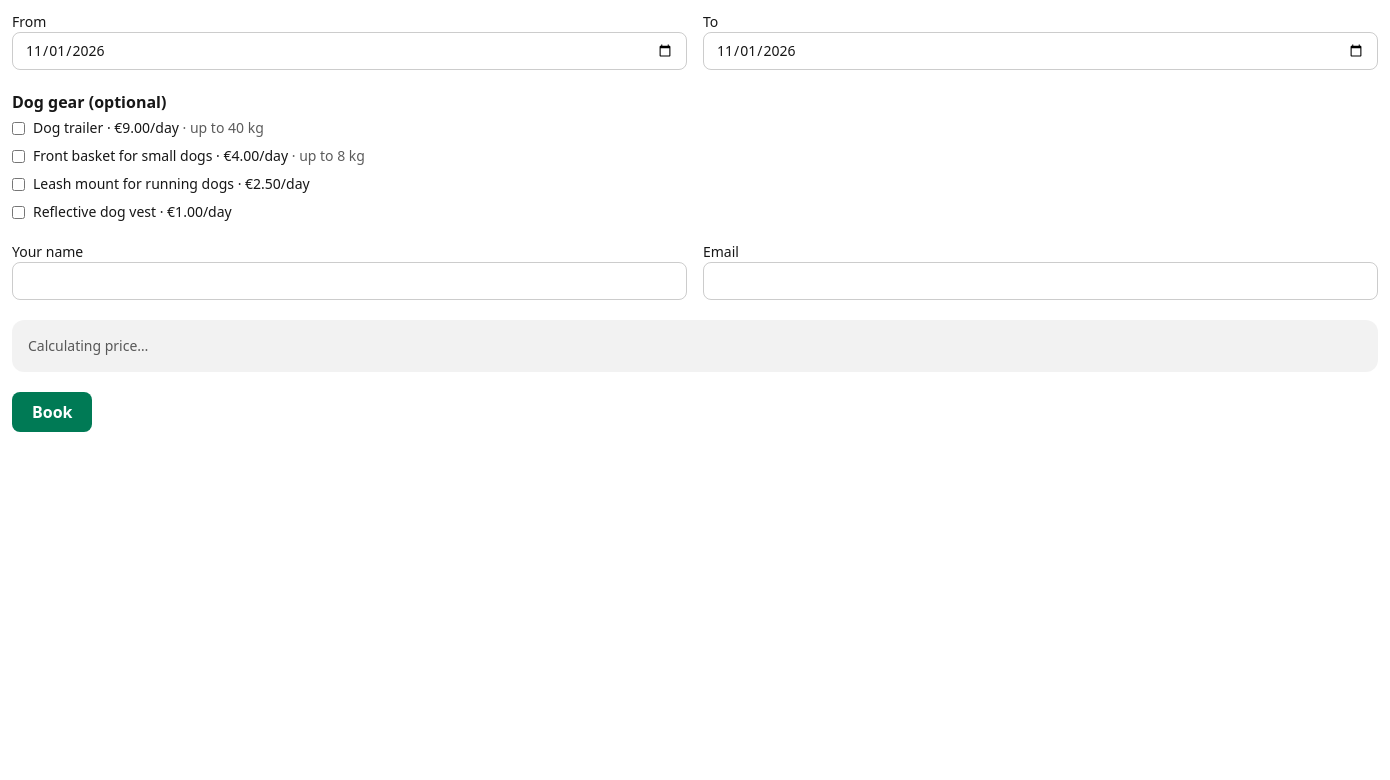
Scenario: R6.1: dog weight appears only once gear is chosen; price comes from /api/quote
Check: the field labelled "Dog weight (kg)" is not shown
Click the checkbox labelled "Dog trailer · €9.00/day · up to 40 kg". click: click(18, 128)
box: x1=12 y1=122 x2=25 y2=135
Wait 300 ms
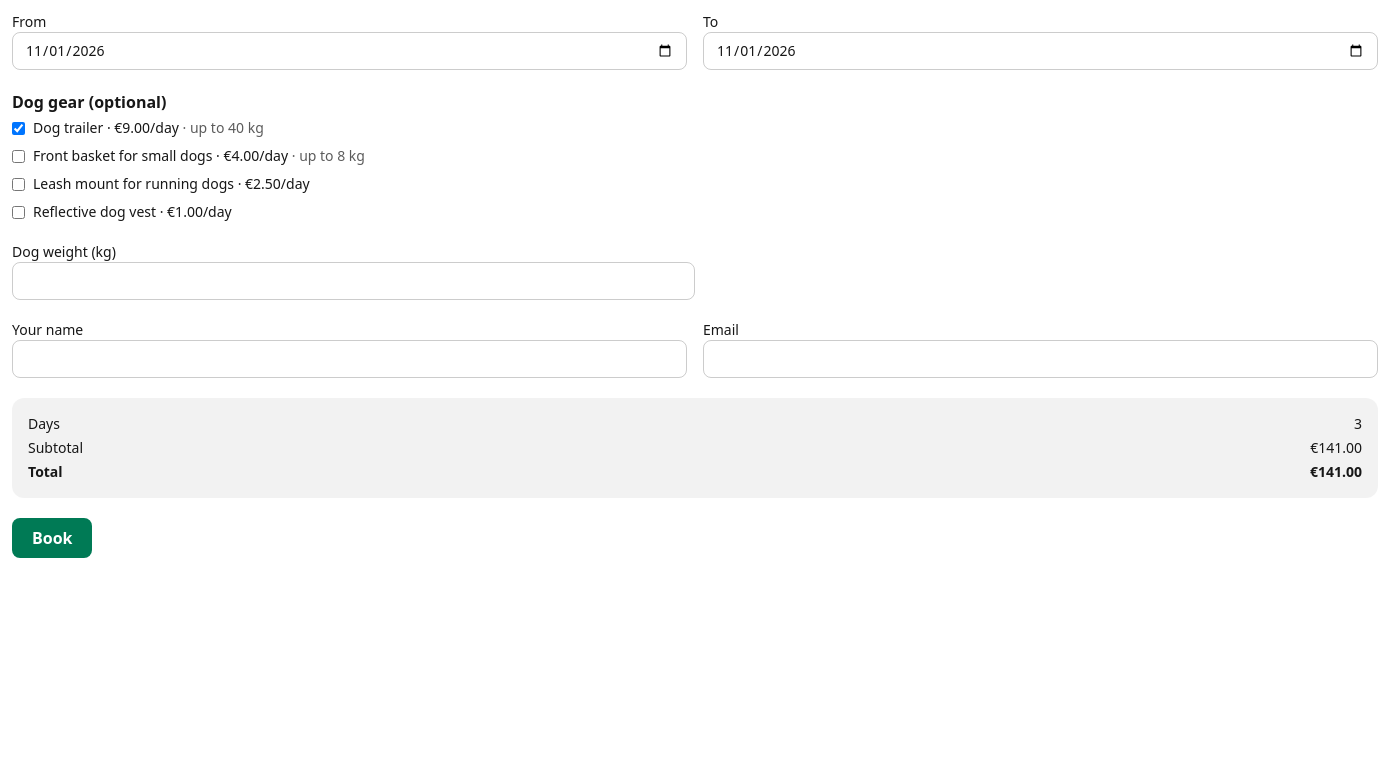
Check: the number field labelled "Dog weight (kg)" is shown, box x1=12 y1=262 x2=695 y2=300
Check: the 2nd text "€141.00" is shown, box x1=1310 y1=462 x2=1362 y2=481
